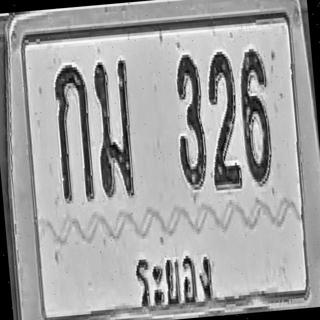A01: (52, 61, 96, 204)
A33: (90, 56, 137, 199)
N02: (203, 49, 242, 190)
N03: (170, 51, 209, 191)
N06: (236, 46, 274, 186)
P53: (128, 234, 221, 315)
